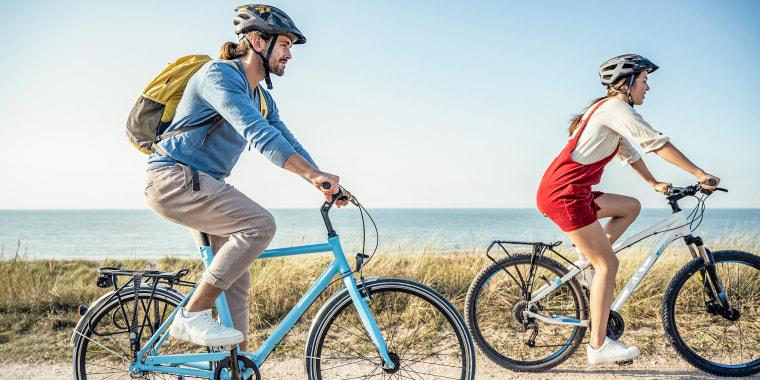Helmet: (232, 5, 309, 45)
